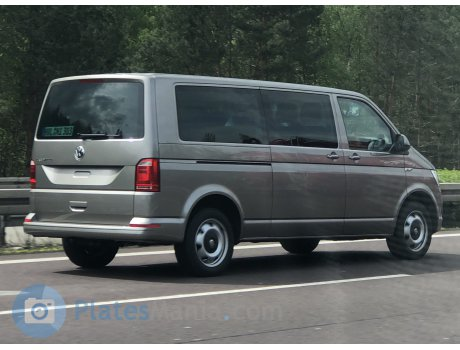License Plates: (38, 122, 77, 136)
